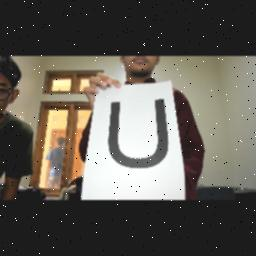u: (104, 96, 176, 170)
